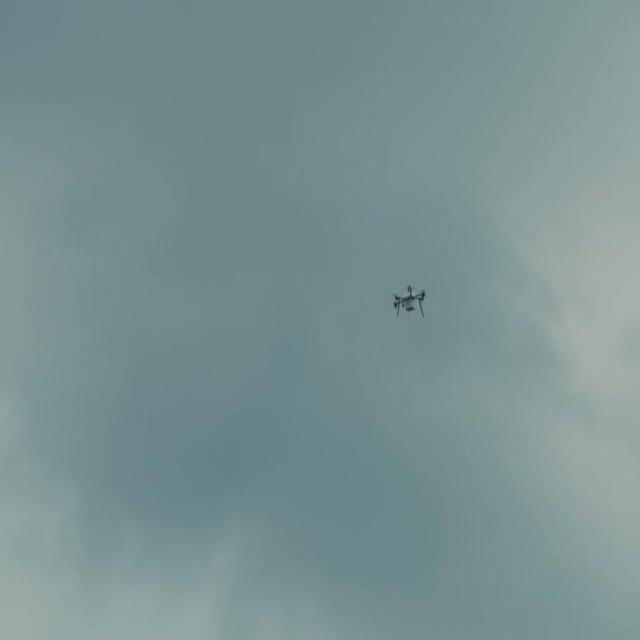UAV: (392, 285, 427, 319)
